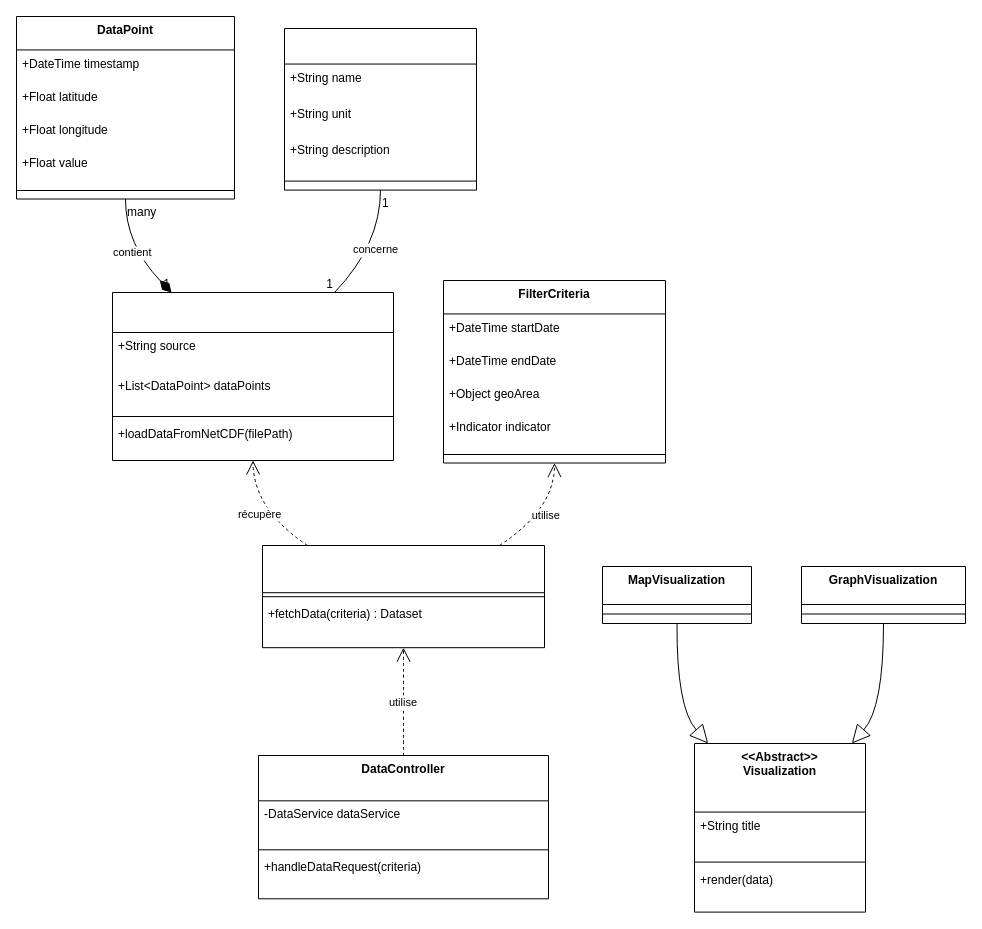
Image size: 982x929. Some labels were removed from this diagram. Here are the shapes that lost their labels. From the top down, the box of each, then its label:
(284, 28, 476, 190): Indicator
(112, 292, 394, 460): Dataset
(262, 544, 544, 648): DataService
